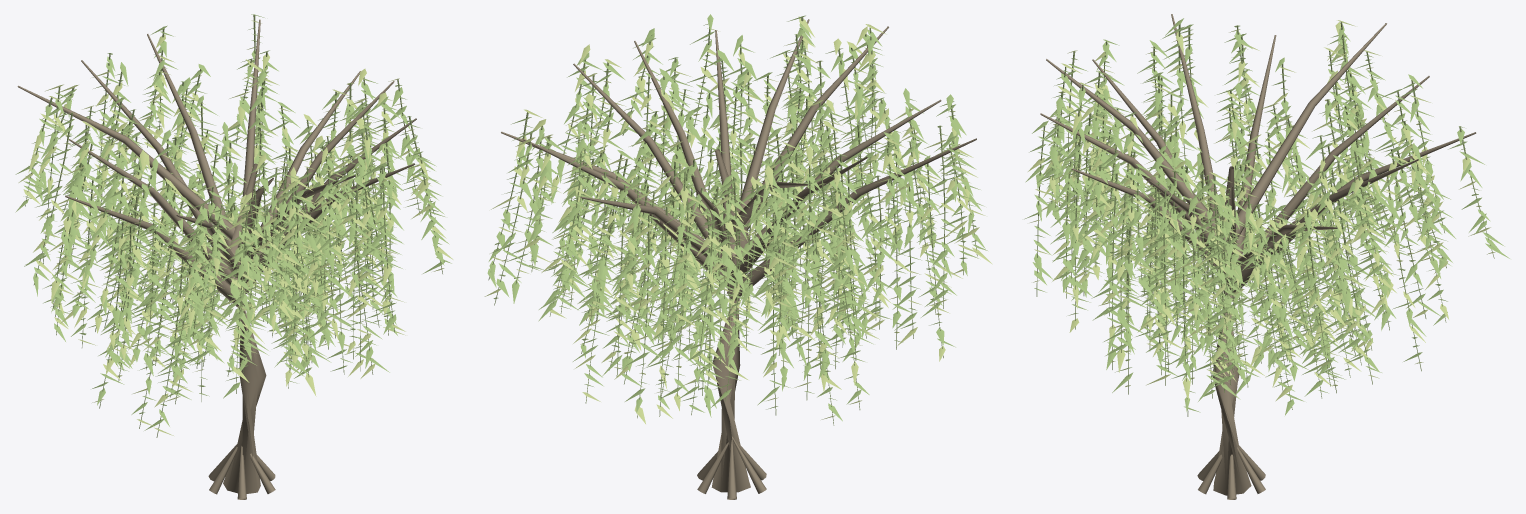
Rendered from lake_willow_1.glb.
The picture shows the model from 3 angles, left to right: view 1: azimuth 30°, elevation 25°; view 2: azimuth 150°, elevation 25°; view 3: azimuth 270°, elevation 25°; orthographic projection. The views are drawn at different scales.
Visible parts, largest first — view 1: lake_willow_1_LakeWillow, lake_willow_1_LakeWillowLight, lake_willow_1_LakeBark, lake_willow_1_LakeReed; view 2: lake_willow_1_LakeWillow, lake_willow_1_LakeWillowLight, lake_willow_1_LakeBark, lake_willow_1_LakeReed; view 3: lake_willow_1_LakeWillow, lake_willow_1_LakeWillowLight, lake_willow_1_LakeBark, lake_willow_1_LakeReed.
Part boxes in pixels (x1,y1,x2,y2): lake_willow_1_LakeWillow: (15, 14, 451, 430); lake_willow_1_LakeWillowLight: (18, 20, 453, 435); lake_willow_1_LakeBark: (17, 19, 416, 499); lake_willow_1_LakeReed: (25, 15, 442, 437); lake_willow_1_LakeWillow: (487, 14, 987, 421); lake_willow_1_LakeWillowLight: (484, 16, 992, 423); lake_willow_1_LakeBark: (501, 19, 976, 499); lake_willow_1_LakeReed: (488, 17, 977, 425); lake_willow_1_LakeWillow: (1024, 18, 1509, 415); lake_willow_1_LakeWillowLight: (1028, 20, 1495, 401); lake_willow_1_LakeBark: (1040, 14, 1476, 499); lake_willow_1_LakeReed: (1036, 22, 1494, 416).
Bounding box in the file's own units: 7.24 × 6.82 × 7.36.
